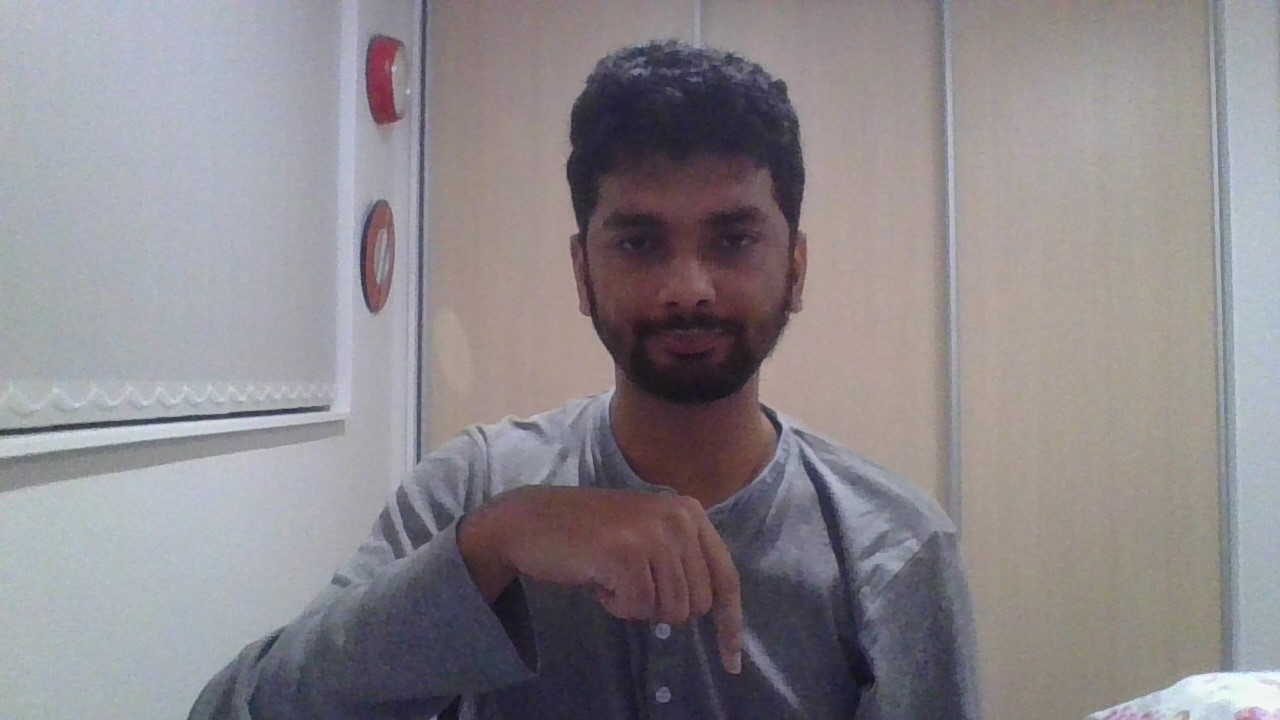below: (459, 485, 742, 673)
